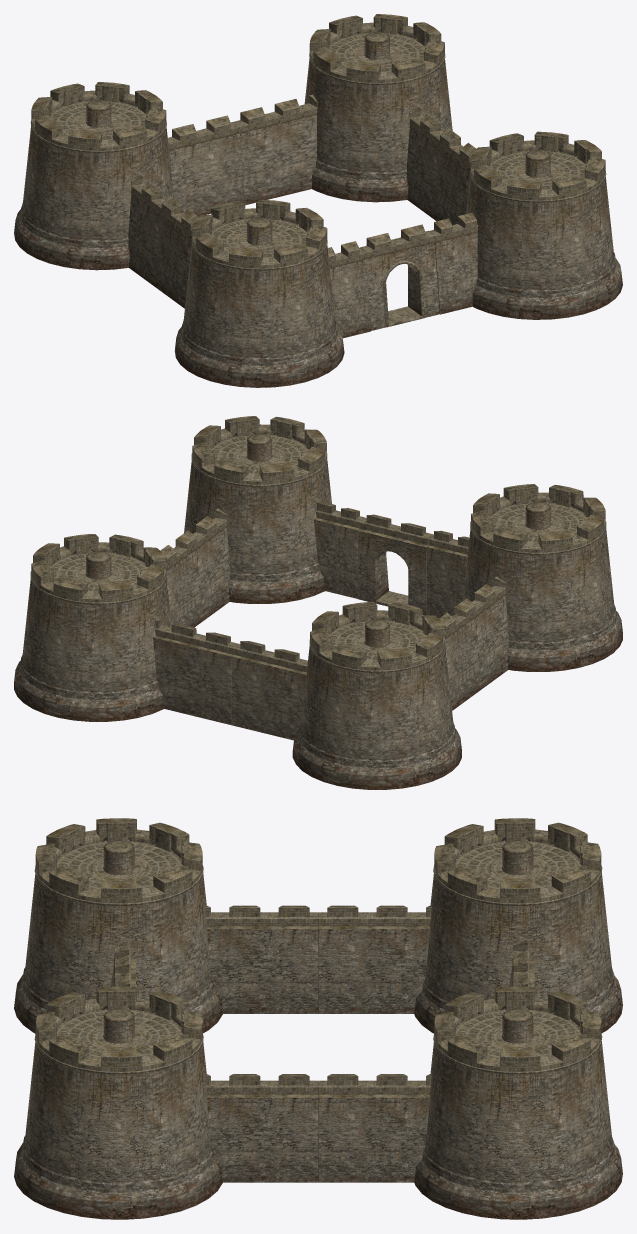
The model's file is place-coastal-fort.glb.
The picture shows the model from 3 angles, top to bottom: view 1: azimuth 30°, elevation 25°; view 2: azimuth 150°, elevation 25°; view 3: azimuth 270°, elevation 25°; orthographic projection. The views are drawn at different scales.
Visible parts, largest first — view 1: modular_fort_01_tower_round.001; view 2: modular_fort_01_tower_round.001; view 3: modular_fort_01_tower_round.001.
Part boxes in pixels (x1,y1,x2,y2): modular_fort_01_tower_round.001: (14, 14, 622, 387); modular_fort_01_tower_round.001: (14, 416, 622, 789); modular_fort_01_tower_round.001: (14, 818, 622, 1219).
Bounding box in the file's own units: 45.84 × 13.5 × 45.84.
2 materials, 2 textured.
